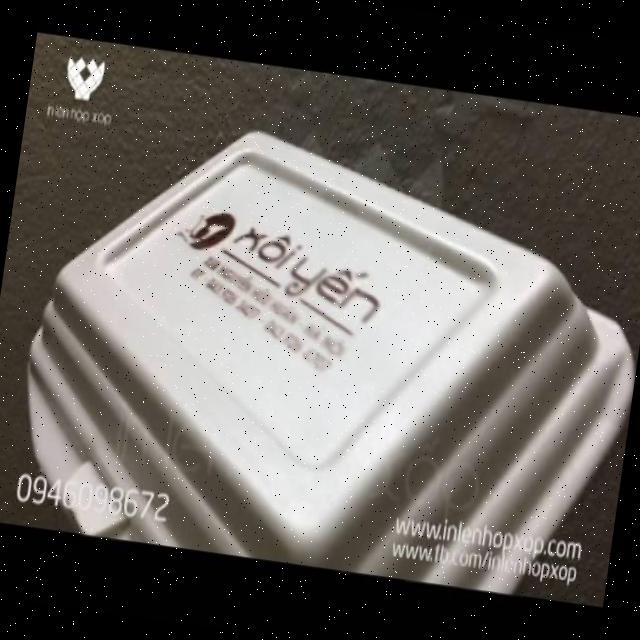styrofoam: (2, 99, 640, 607)
